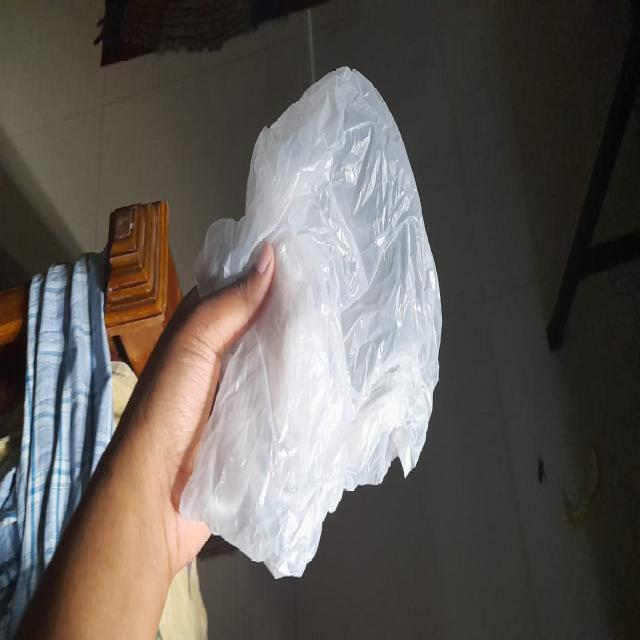Plastic - Recyclable: (177, 63, 443, 580)
